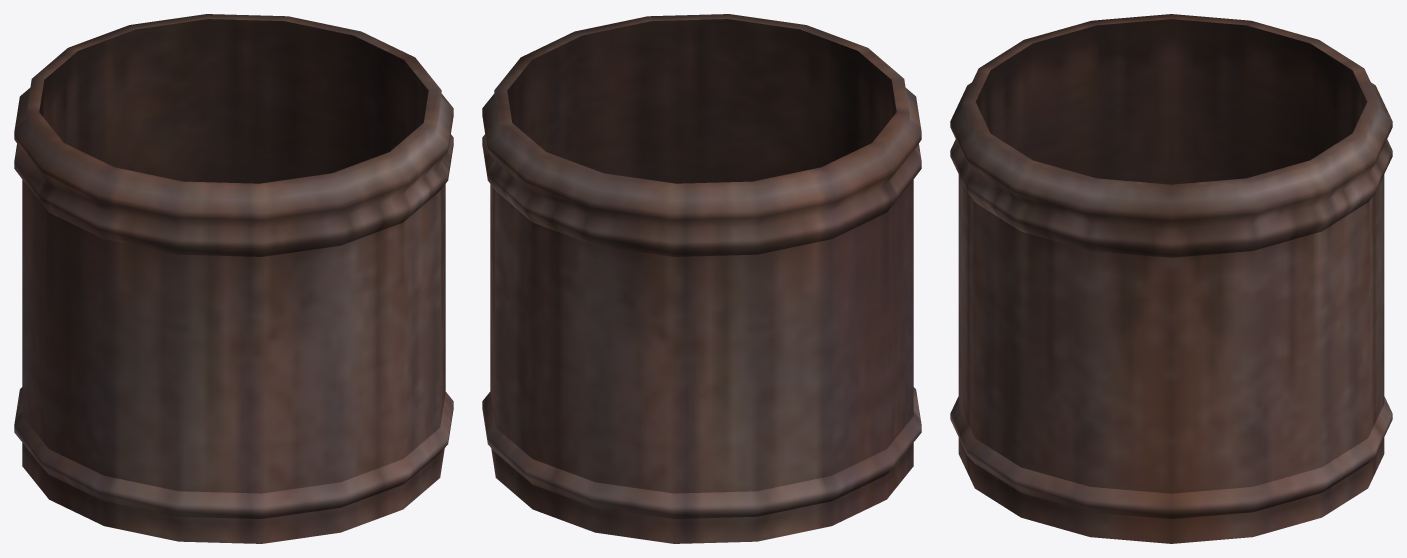
File: LargeBucket.FBX
3 views of the same model, side by side, from view 1: azimuth 30°, elevation 25°; view 2: azimuth 150°, elevation 25°; view 3: azimuth 270°, elevation 25° (orthographic).
Parts seen in each view (by area): view 1: largebucket; view 2: largebucket; view 3: largebucket.
Boxes of the visible parts, box(x1,y1,x2,y2) form: largebucket: box(14, 14, 453, 543); largebucket: box(482, 14, 921, 543); largebucket: box(950, 14, 1392, 543).
Bounding box in the file's own units: 25.95 × 22.81 × 25.95.
